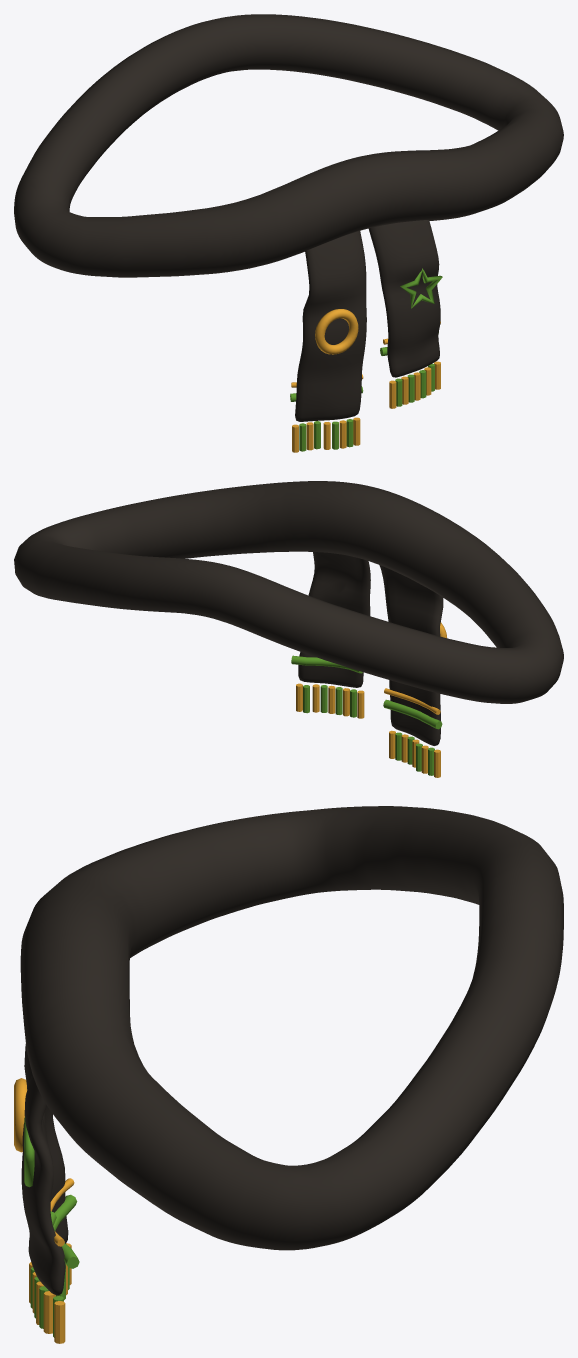
Rendered from bufanda.glb.
3 renders of one model, top to bottom at view 1: azimuth 30°, elevation 25°; view 2: azimuth 150°, elevation 25°; view 3: azimuth 270°, elevation 25°, orthographic. The views are drawn at different scales.
Parts seen in each view (by area): view 1: accesorio_bufanda; view 2: accesorio_bufanda; view 3: accesorio_bufanda.
Part boxes in pixels (left/top/right/bottom): accesorio_bufanda: left=14, top=14, right=563, bottom=452; accesorio_bufanda: left=14, top=481, right=563, bottom=777; accesorio_bufanda: left=14, top=806, right=563, bottom=1343.
Size of the model in its own units: 1.09 by 0.5986 by 0.6489.
